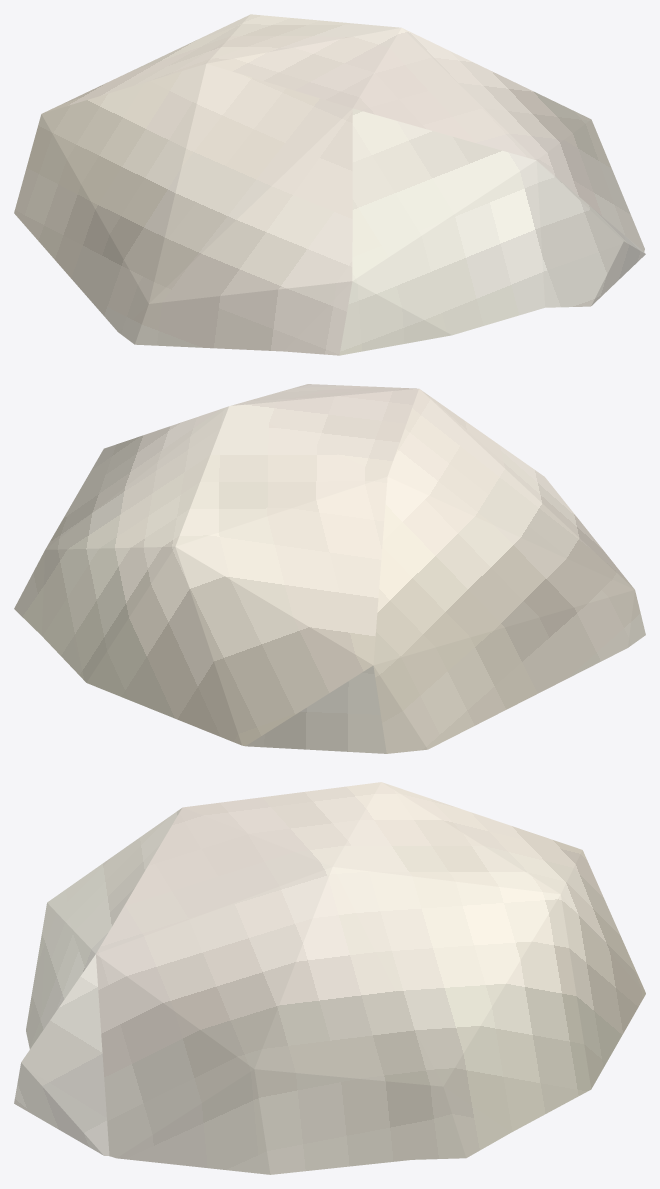
Rendered from Tile_+004_+000_L21_0003000.glb.
The picture shows the model from 3 angles, top to bottom: view 1: azimuth 30°, elevation 25°; view 2: azimuth 150°, elevation 25°; view 3: azimuth 270°, elevation 25°; orthographic projection. The views are drawn at different scales.
Visible parts, largest first — view 1: rtc; view 2: rtc; view 3: rtc.
Part boxes in pixels (x1,y1,x2,y2): rtc: [14, 14, 645, 355]; rtc: [14, 384, 645, 753]; rtc: [14, 782, 645, 1174].
Bounding box in the file's own units: 0.5508 × 0.1926 × 0.524.
Materials: 1 (1 with a texture image).
